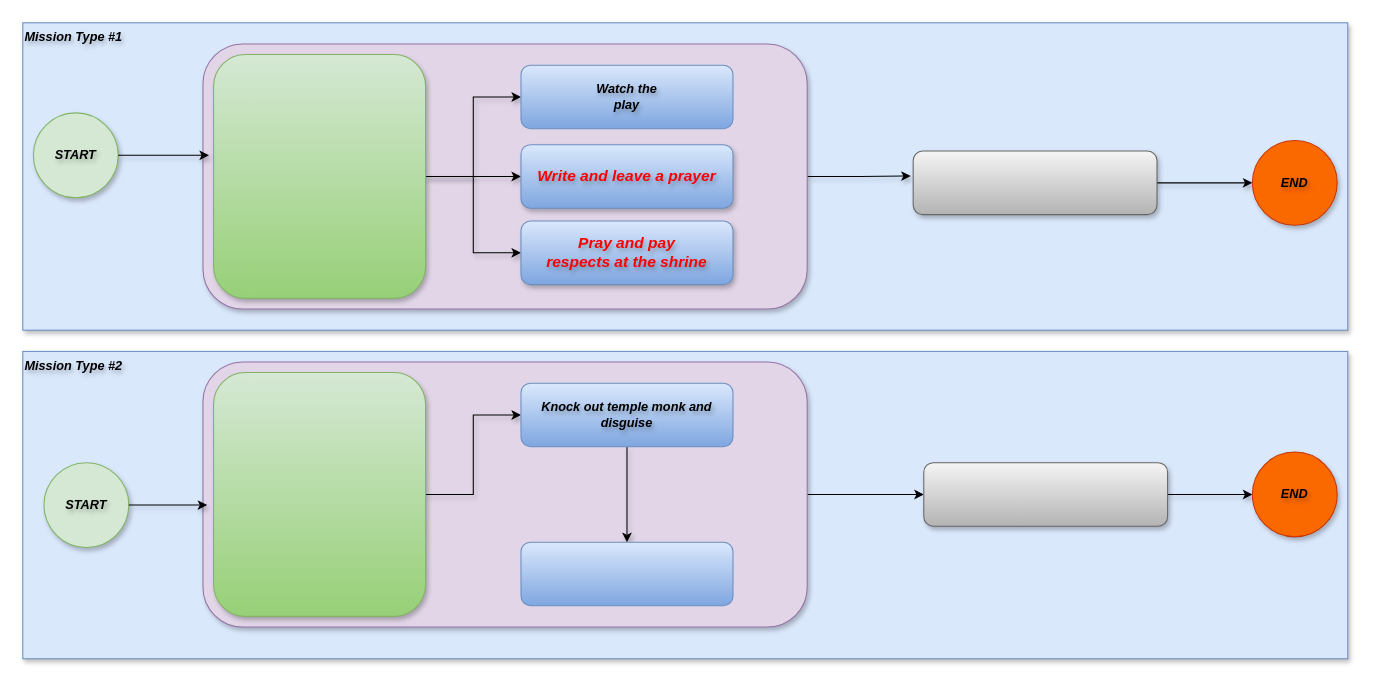
Image size: 1373x685. Some labels were removed from this diagram. The shapes that lost their labels are listed below. From the top down, each one's centre as x and y in pixels, then its label:
the point at 320,177: Earn the trust of the monks
the point at 1035,184: Get Blessing of the Abbot
the point at 320,495: Find incriminating evidence against Od Nobunaga
the point at 1046,495: Get evidence of bribes ...
the point at 626,573: Listen to monks discussing...
